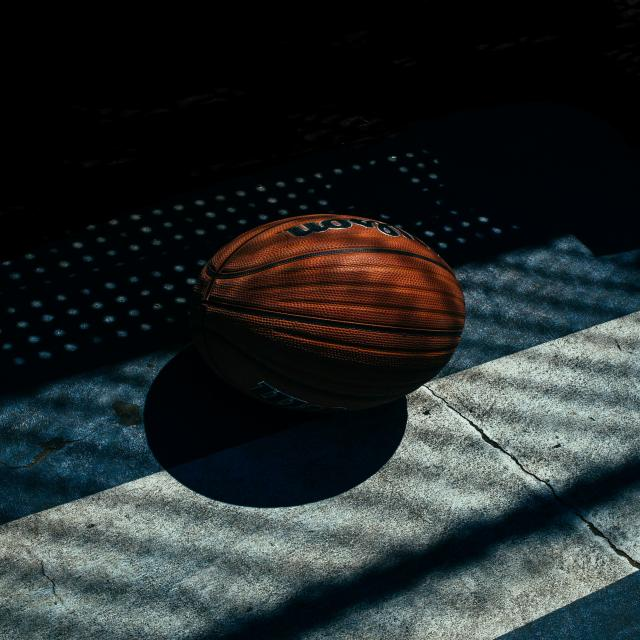Basketball: (189, 213, 467, 417)
